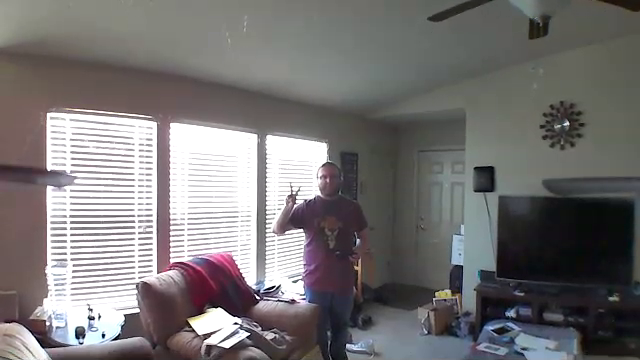peace: (279, 179, 304, 210)
